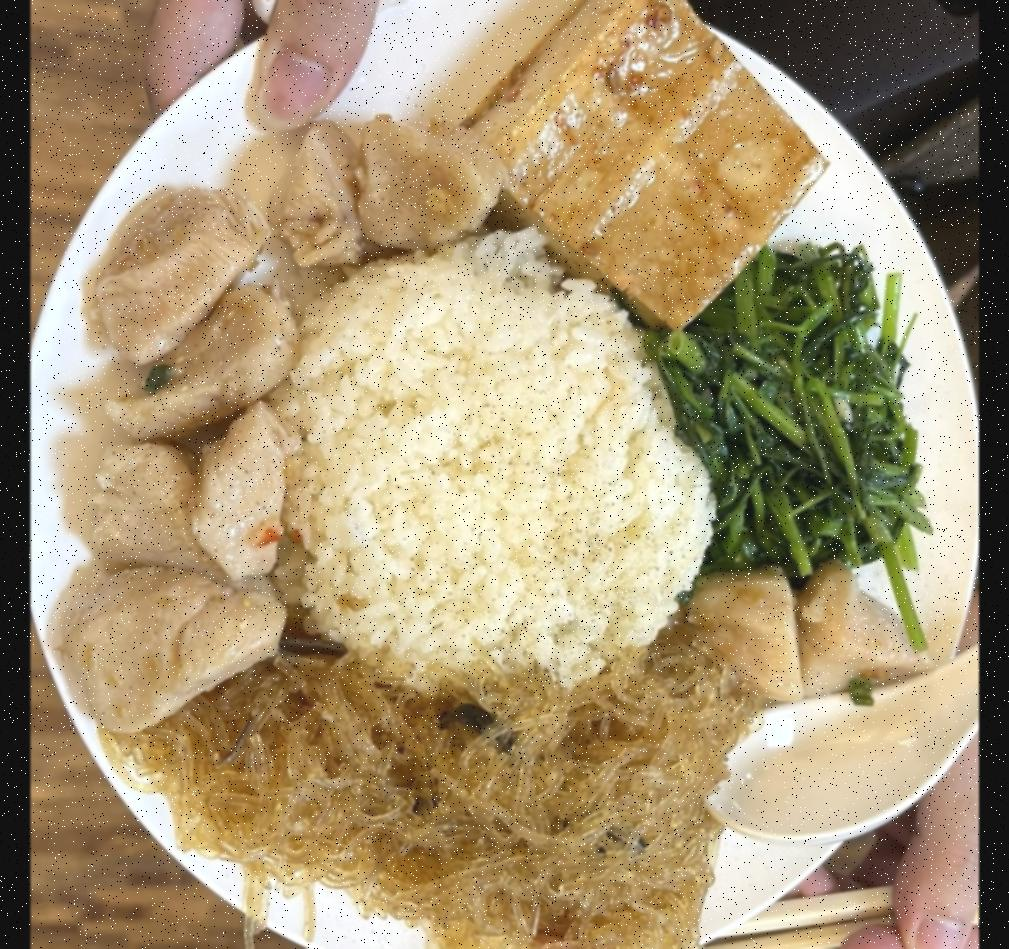plate: (30, 0, 979, 949)
scallion chicken: (58, 117, 512, 728)
side dish: (100, 636, 765, 949), (471, 0, 839, 325), (650, 244, 928, 570)
white rice: (288, 240, 718, 693)
